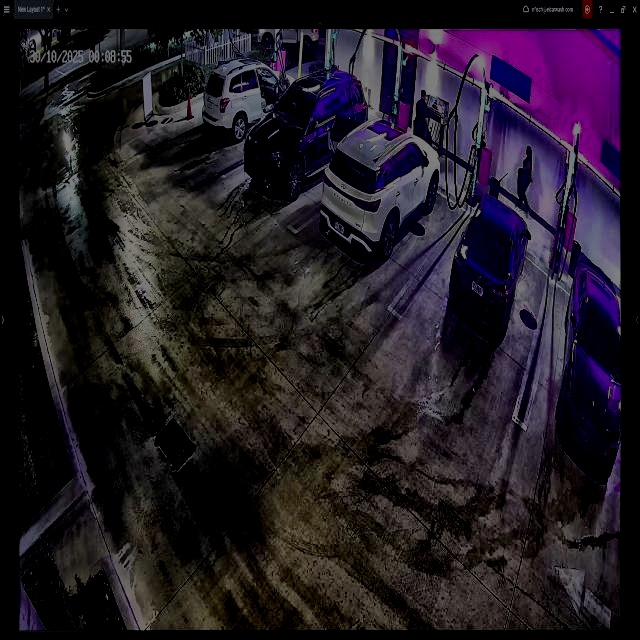Car: (321, 118, 439, 255), (247, 70, 365, 195), (446, 185, 529, 335)
